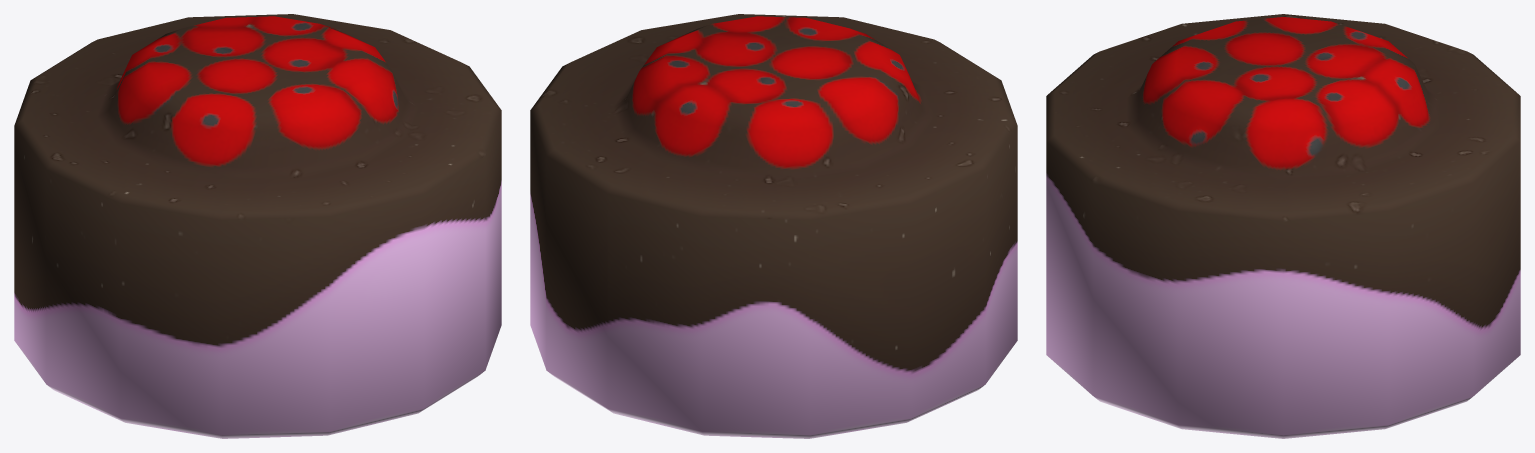
The model's file is BuffetDesserts01_8.FBX.
The picture shows the model from 3 angles, left to right: view 1: azimuth 30°, elevation 25°; view 2: azimuth 150°, elevation 25°; view 3: azimuth 270°, elevation 25°; orthographic projection.
Visible parts, largest first — view 1: BuffetDesserts01_8; view 2: BuffetDesserts01_8; view 3: BuffetDesserts01_8.
Part boxes in pixels (box(x1,y1,x2,y2)): BuffetDesserts01_8: box(14, 14, 501, 438); BuffetDesserts01_8: box(530, 14, 1017, 438); BuffetDesserts01_8: box(1046, 14, 1520, 438).
Size of what is drawn, in the model's own units: 0.1207 by 0.0758 by 0.1177.
